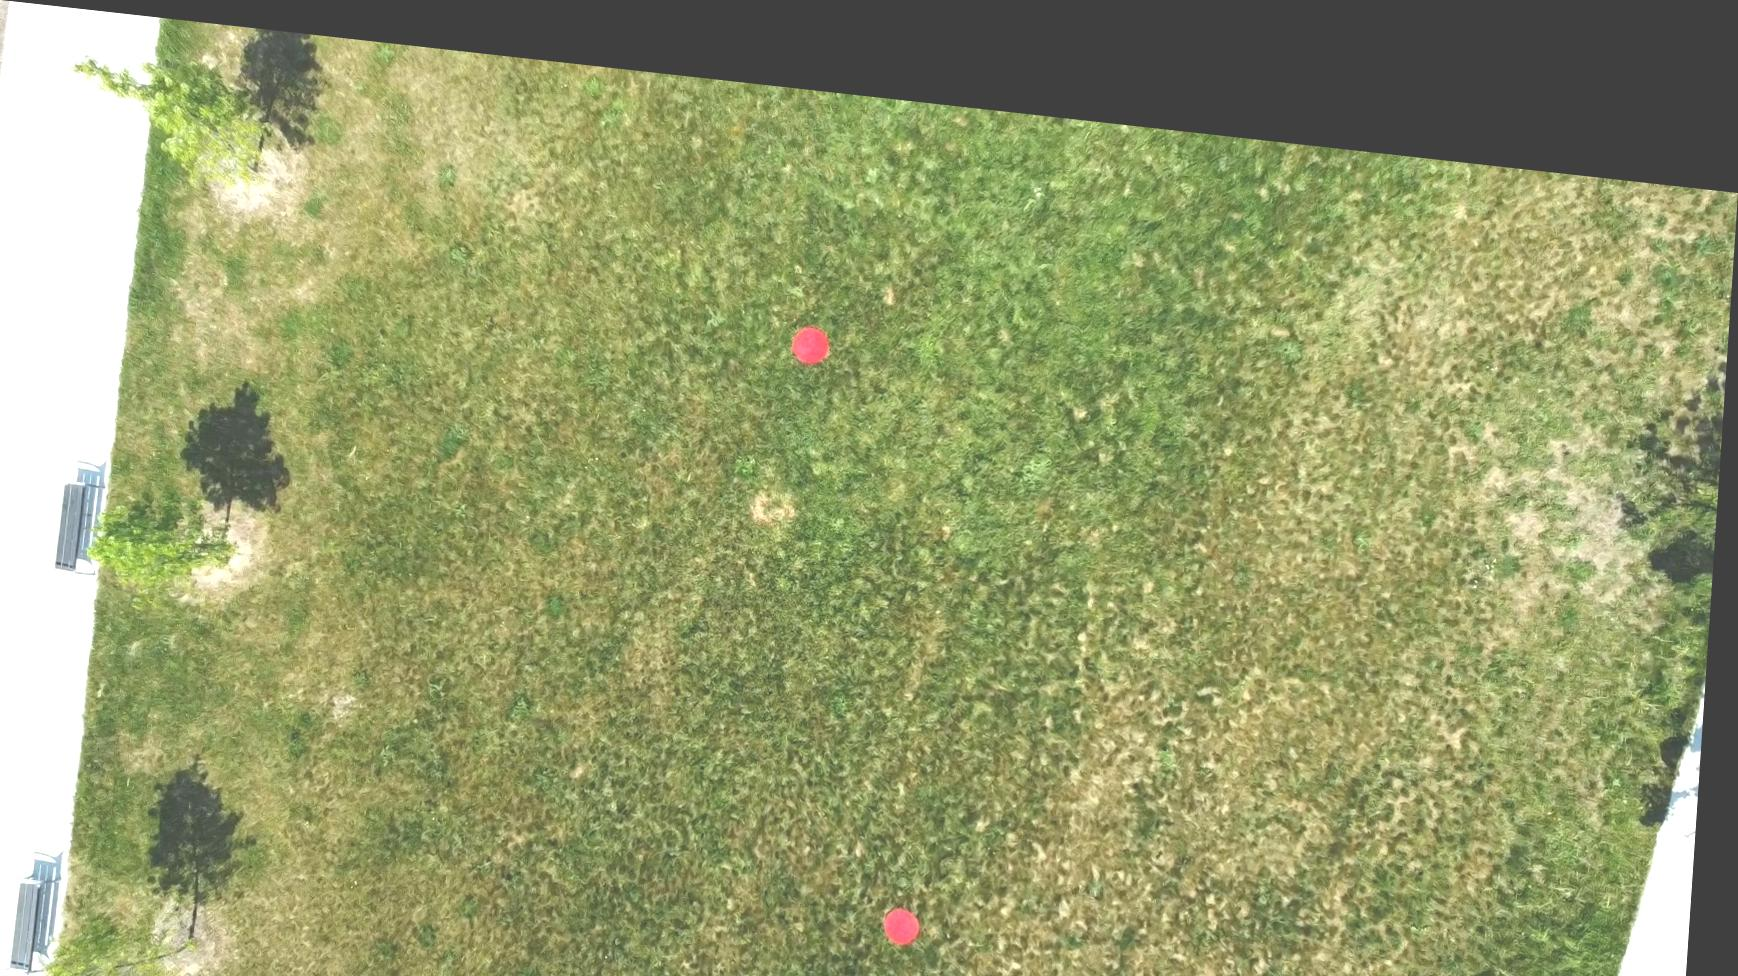Red: (794, 304, 837, 350), (893, 882, 935, 926)
